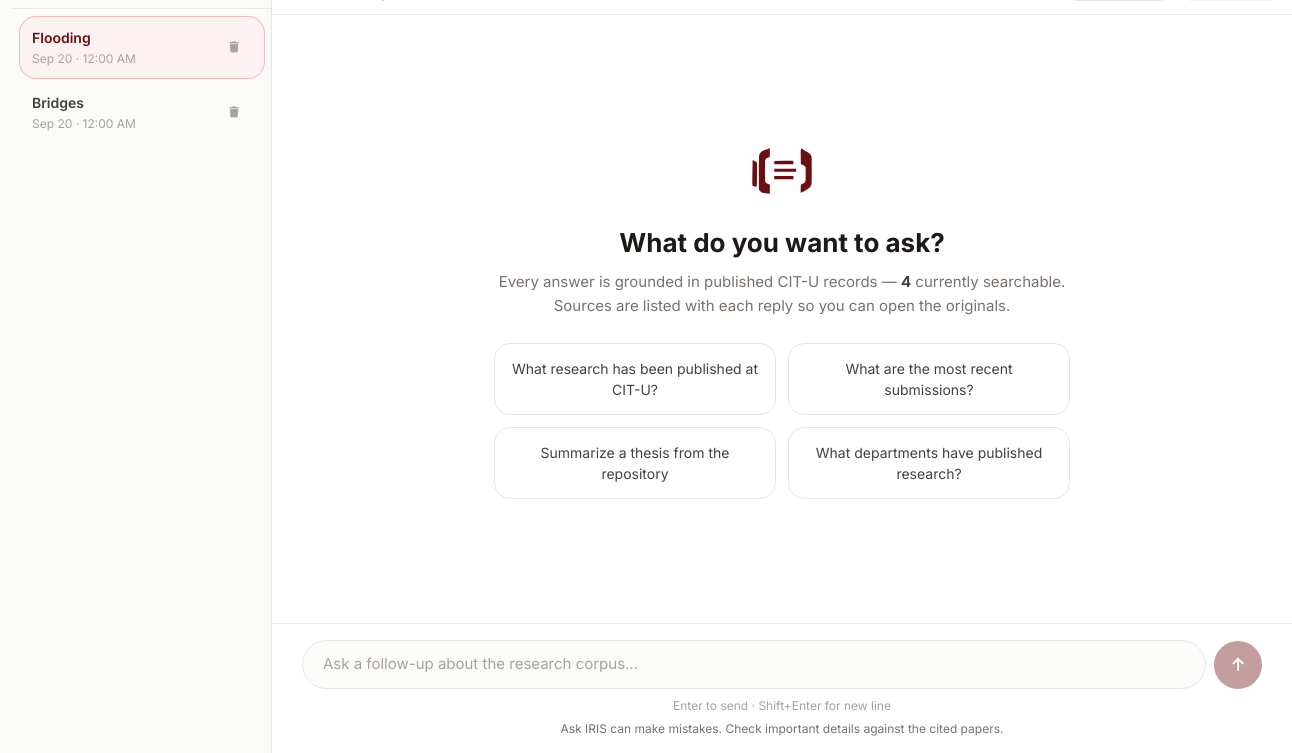
Test: each answer stays with the conversation that asked (IR-562) › keeps an answer still arriving out of the conversation the reader moved to
Expected: the link "Bridges Sep 20 · 12:00 AM" is shown, [32, 94, 136, 131]
Type "What predicts flooding?" into the text box labelled "Ask a follow-up about the research corpus…" at (754, 664), box [302, 640, 1206, 688]
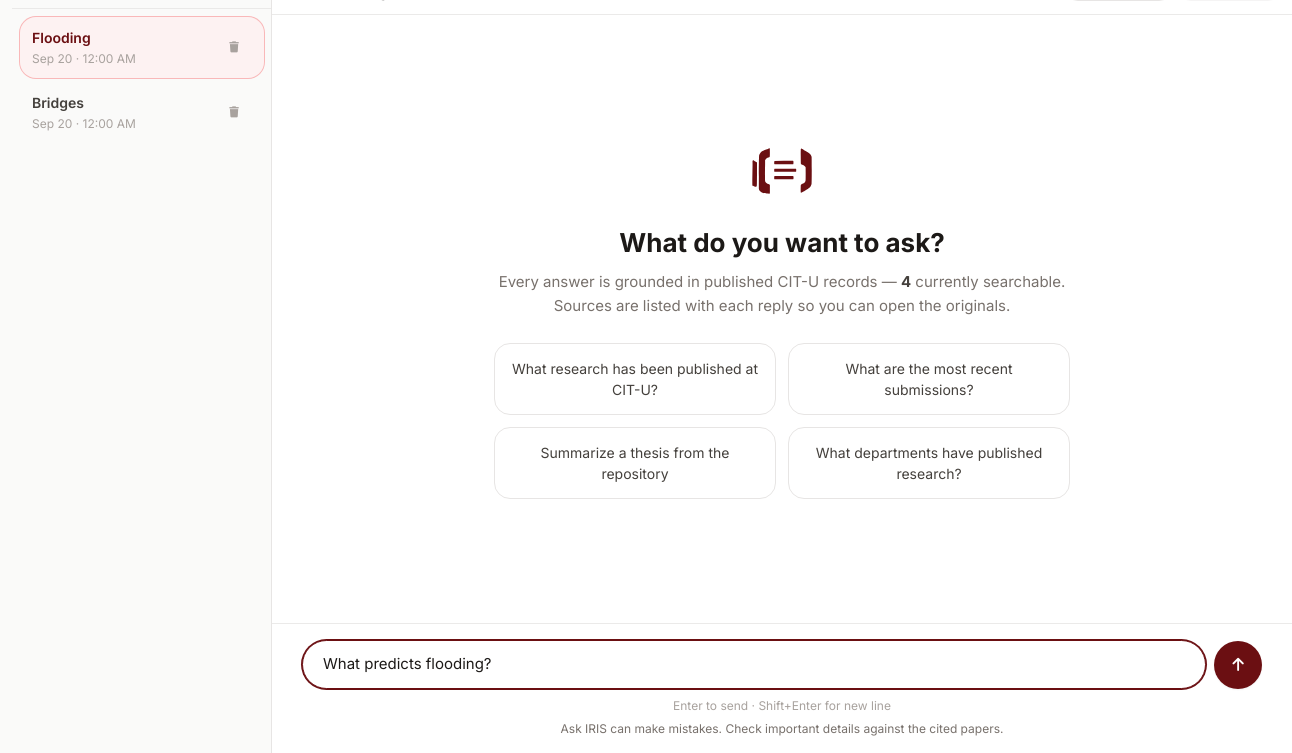
Click the button named "send message" at (1238, 664), box [1214, 640, 1262, 688]
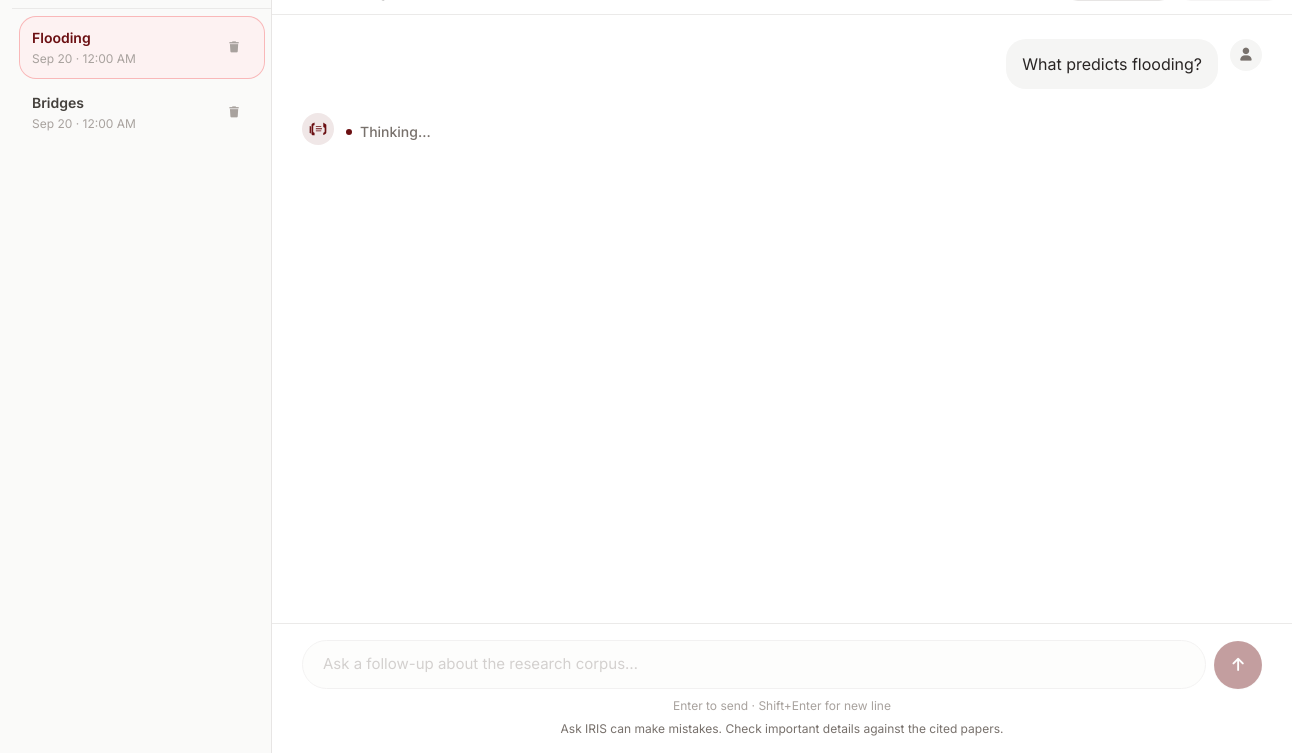
Expected: the text "Thinking…" is shown, [360, 120, 431, 143]
Click the link "Bridges Sep 20 · 12:00 AM" at (84, 112), box [32, 94, 136, 131]
(page scrolled)
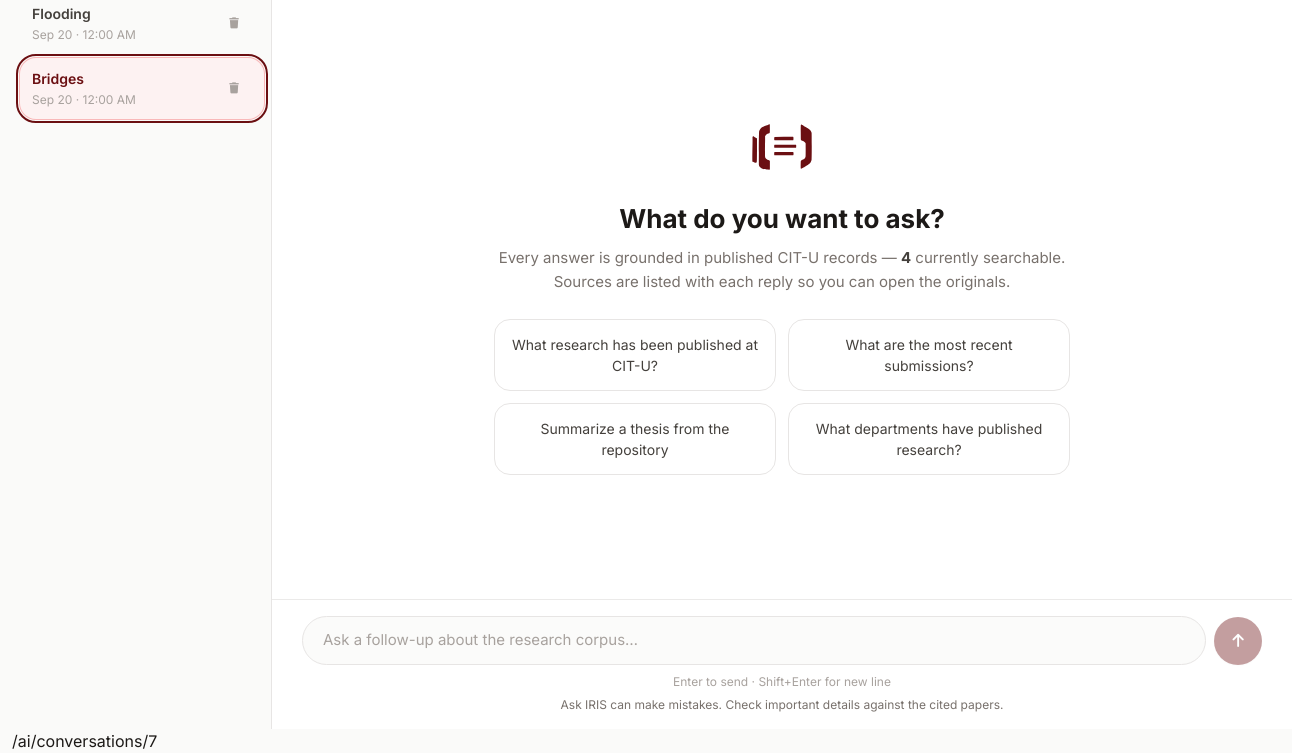
Expected: the text named "address" reads "/ai/conversations/7", [12, 731, 157, 751]
Expected: the text "What predicts flooding?" is gone
